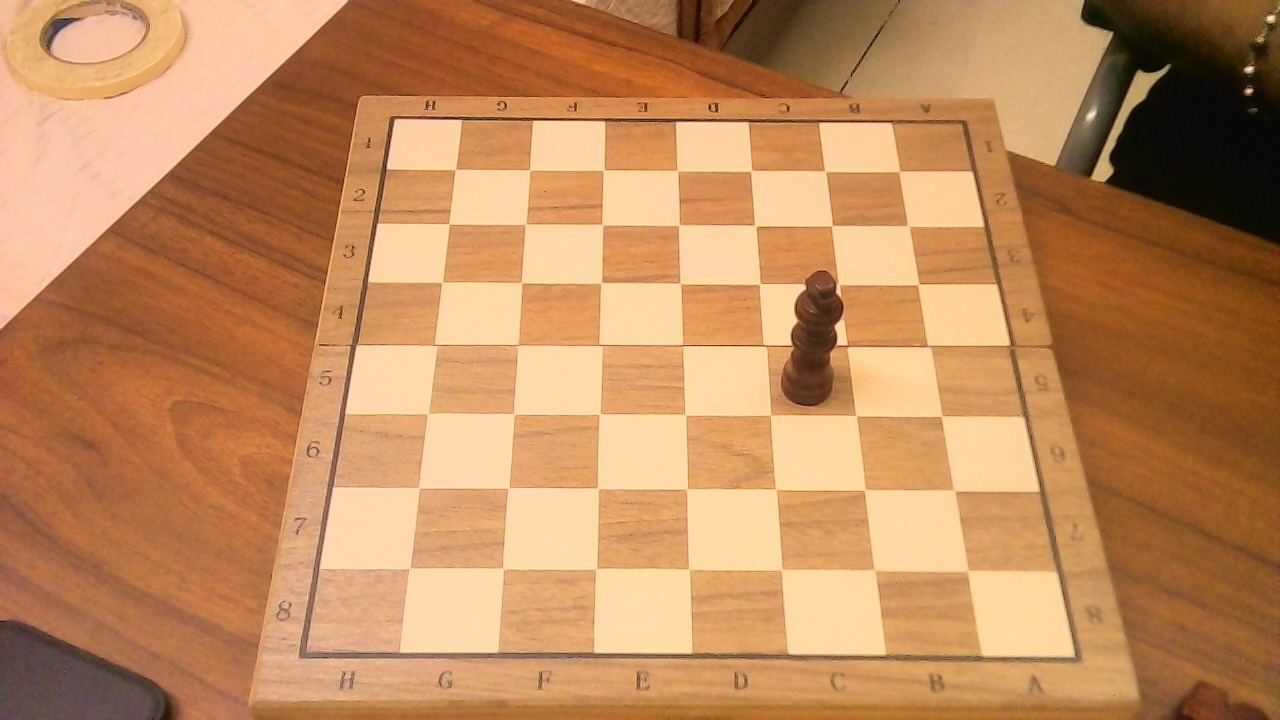k: (774, 259, 856, 410)
